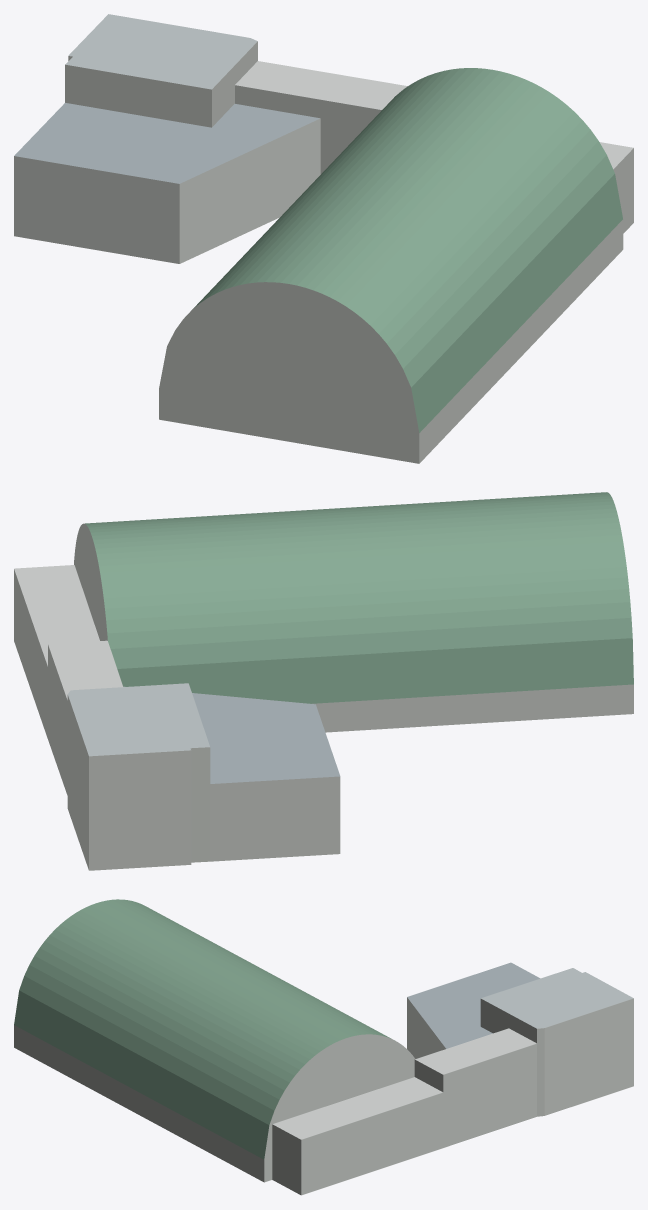
The model's file is sportcentrum-velesin.glb.
3 views of the same model, one above another, from view 1: azimuth 30°, elevation 25°; view 2: azimuth 150°, elevation 25°; view 3: azimuth 270°, elevation 25° (orthographic). The views are drawn at different scales.
Visible parts, largest first — view 1: Sportcentrum Velešín – tenisová hala, Sportcentrum – nižší část squashové haly, Sportcentrum – vyšší část squashové haly, Sportcentrum – spojovací část, Sportcentrum – nižší spojovací část; view 2: Sportcentrum Velešín – tenisová hala, Sportcentrum – vyšší část squashové haly, Sportcentrum – nižší část squashové haly, Sportcentrum – nižší spojovací část, Sportcentrum – spojovací část; view 3: Sportcentrum Velešín – tenisová hala, Sportcentrum – vyšší část squashové haly, Sportcentrum – nižší spojovací část, Sportcentrum – spojovací část, Sportcentrum – nižší část squashové haly.
Part boxes in pixels (<box>): Sportcentrum Velešín – tenisová hala: <box>159,68,623,463</box>; Sportcentrum – nižší část squashové haly: <box>14,103,320,263</box>; Sportcentrum – vyšší část squashové haly: <box>65,14,257,127</box>; Sportcentrum – spojovací část: <box>235,61,407,174</box>; Sportcentrum – nižší spojovací část: <box>599,142,633,233</box>; Sportcentrum Velešín – tenisová hala: <box>74,492,633,732</box>; Sportcentrum – vyšší část squashové haly: <box>67,683,210,870</box>; Sportcentrum – nižší část squashové haly: <box>123,686,340,861</box>; Sportcentrum – nižší spojovací část: <box>14,565,99,738</box>; Sportcentrum – spojovací část: <box>48,640,122,795</box>; Sportcentrum Velešín – tenisová hala: <box>14,899,414,1182</box>; Sportcentrum – vyšší část squashové haly: <box>480,968,633,1116</box>; Sportcentrum – nižší spojovací část: <box>272,1077,443,1195</box>; Sportcentrum – spojovací část: <box>414,1028,536,1147</box>; Sportcentrum – nižší část squashové haly: <box>407,962,540,1058</box>.
Size of the model in its own units: 44.41 by 12 by 57.54.
